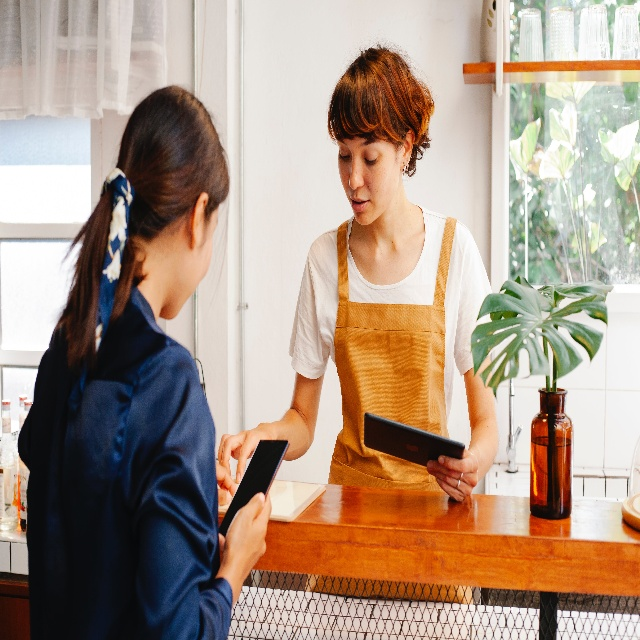Sin_guantes: (222, 491, 272, 584), (217, 424, 274, 485), (425, 448, 479, 503), (214, 460, 238, 508)
